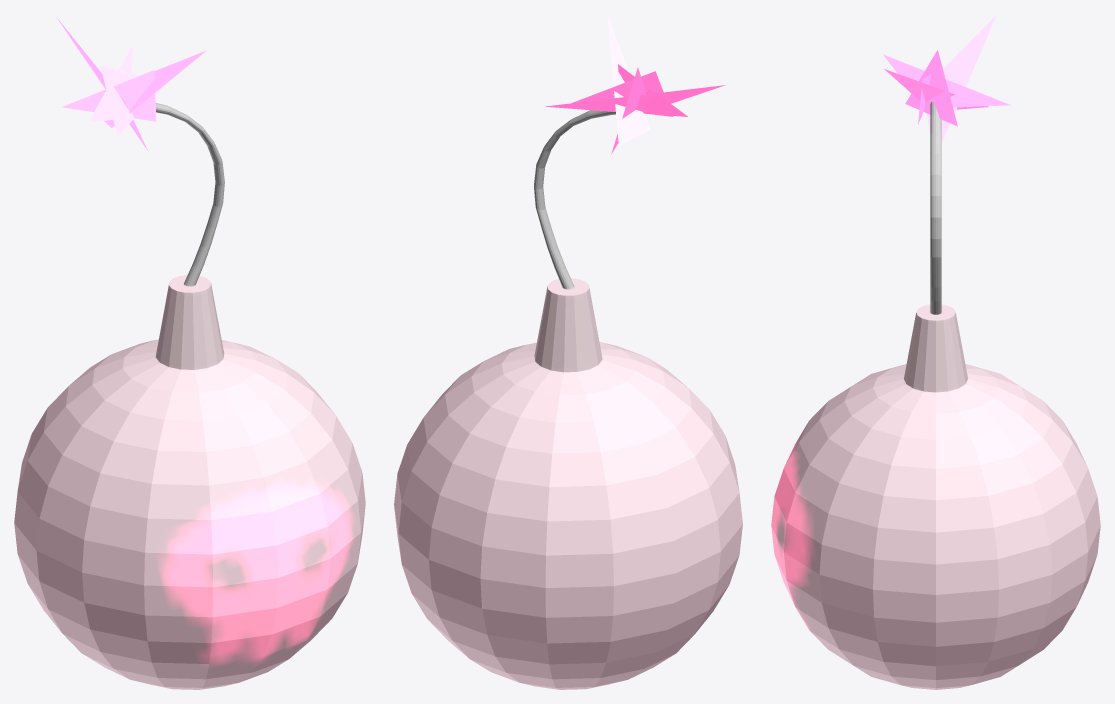
The model's file is Bomb.fbx.
The picture shows the model from 3 angles, left to right: view 1: azimuth 30°, elevation 25°; view 2: azimuth 150°, elevation 25°; view 3: azimuth 270°, elevation 25°; orthographic projection. The views are drawn at different scales.
Parts seen in each view (by area): view 1: Sphere_Sphere.001; view 2: Sphere_Sphere.001; view 3: Sphere_Sphere.001.
Boxes of the visible parts, <box> form: Sphere_Sphere.001: <box>14,15,365,689</box>; Sphere_Sphere.001: <box>394,15,742,689</box>; Sphere_Sphere.001: <box>771,14,1100,689</box>.
Size of the model in its own units: 104 by 213 by 104.
